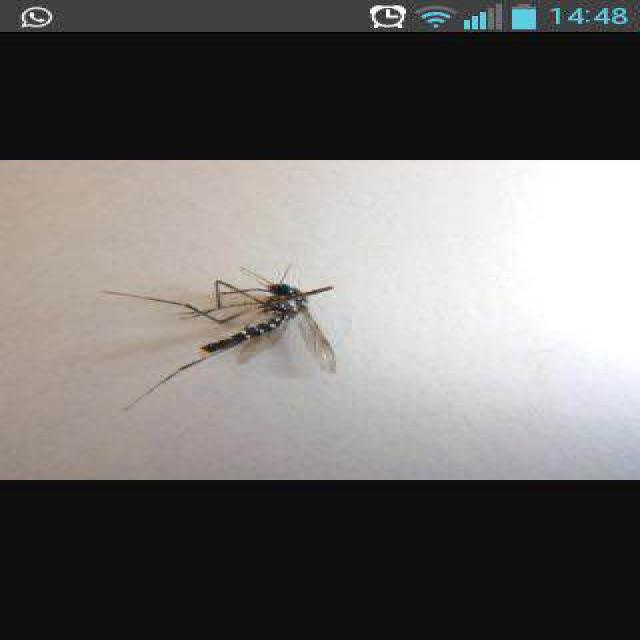albopictus: (106, 253, 346, 407)
